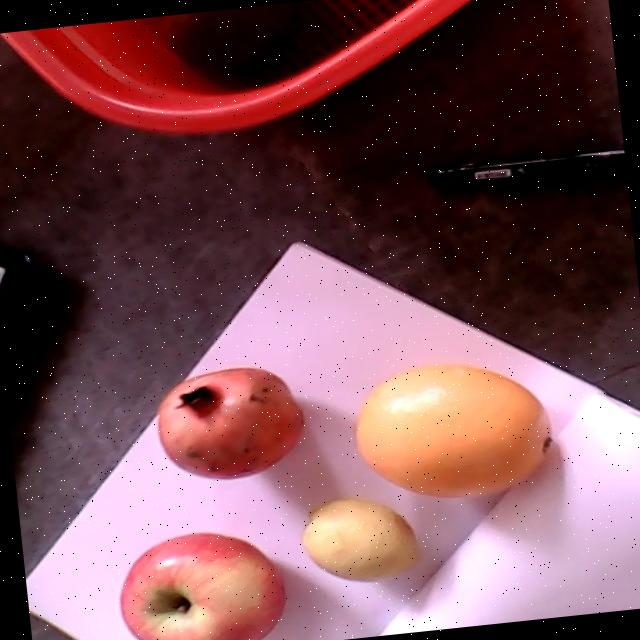apple: (122, 531, 285, 640)
lemon: (302, 497, 417, 582)
orange: (351, 364, 554, 499)
pomegranate: (157, 366, 305, 478)
